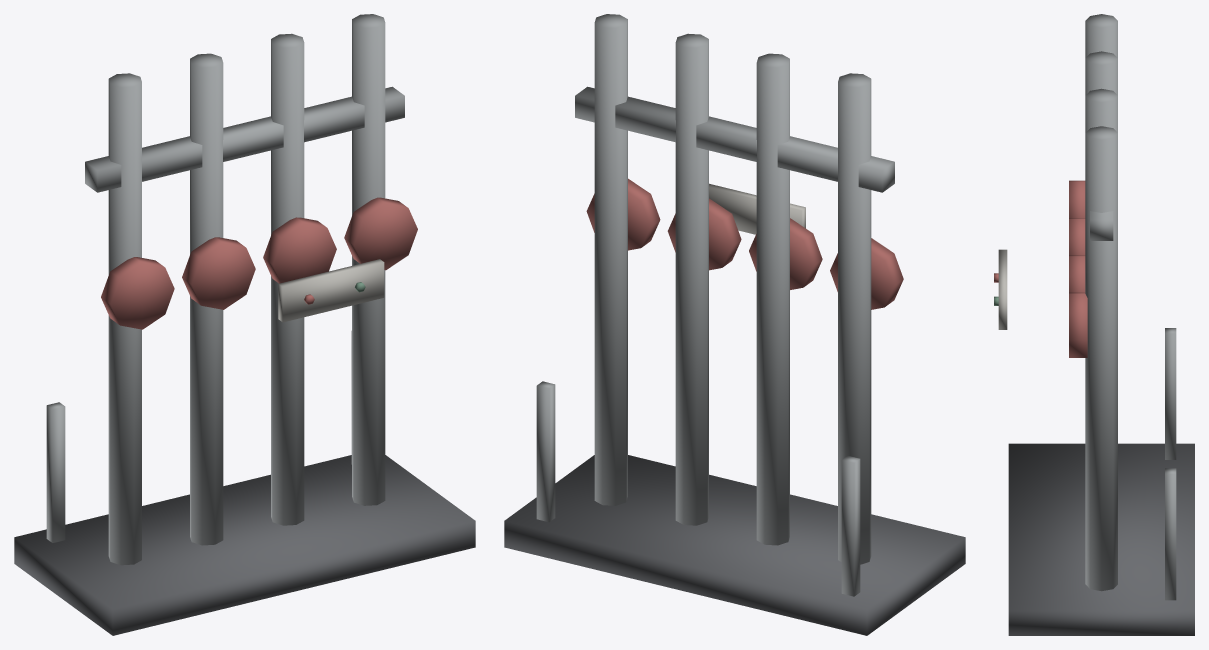
The model's file is pipe_valve_station__reinforced.glb.
3 renders of one model, left to right at view 1: azimuth 30°, elevation 25°; view 2: azimuth 150°, elevation 25°; view 3: azimuth 270°, elevation 25°, orthographic. The views are drawn at different scales.
Visible parts, largest first — view 1: world; view 2: world; view 3: world.
Boxes of the visible parts, x1,y1,x2,y2 form: world: (14,14,475,635); world: (504,14,965,635); world: (994,14,1194,635).
Size of the model in its own units: 0.8755 by 1.16 by 0.4439.
